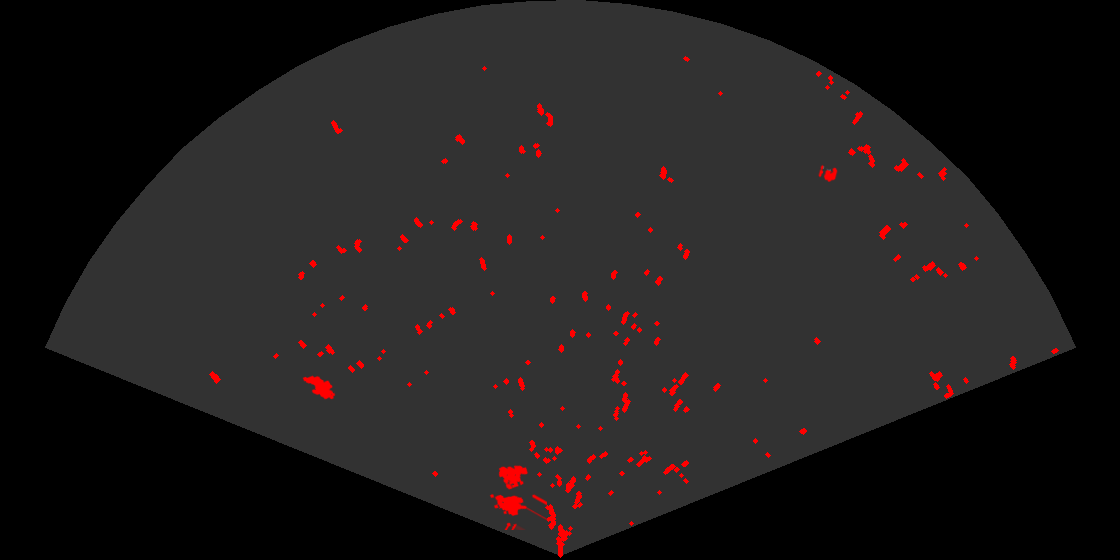AUV: (301, 374, 337, 401)
ball: (817, 163, 839, 183)
cage: (488, 464, 547, 530)
